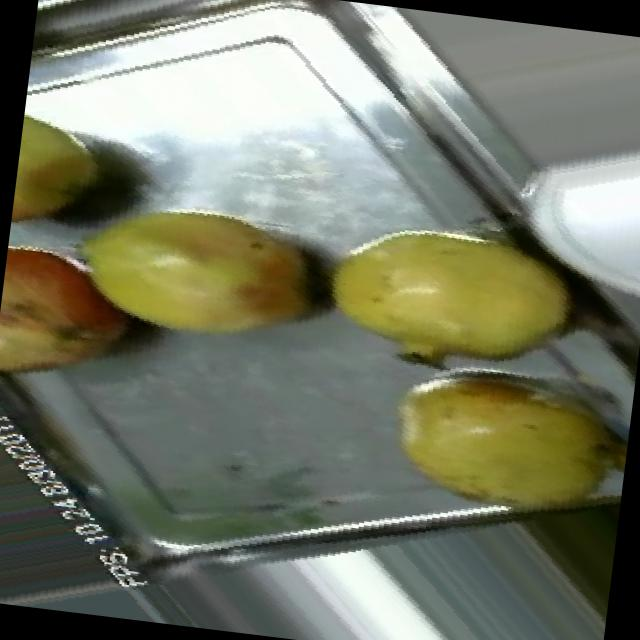fruit: (286, 170, 592, 404), (57, 164, 345, 378), (0, 219, 155, 409), (7, 89, 134, 258)
